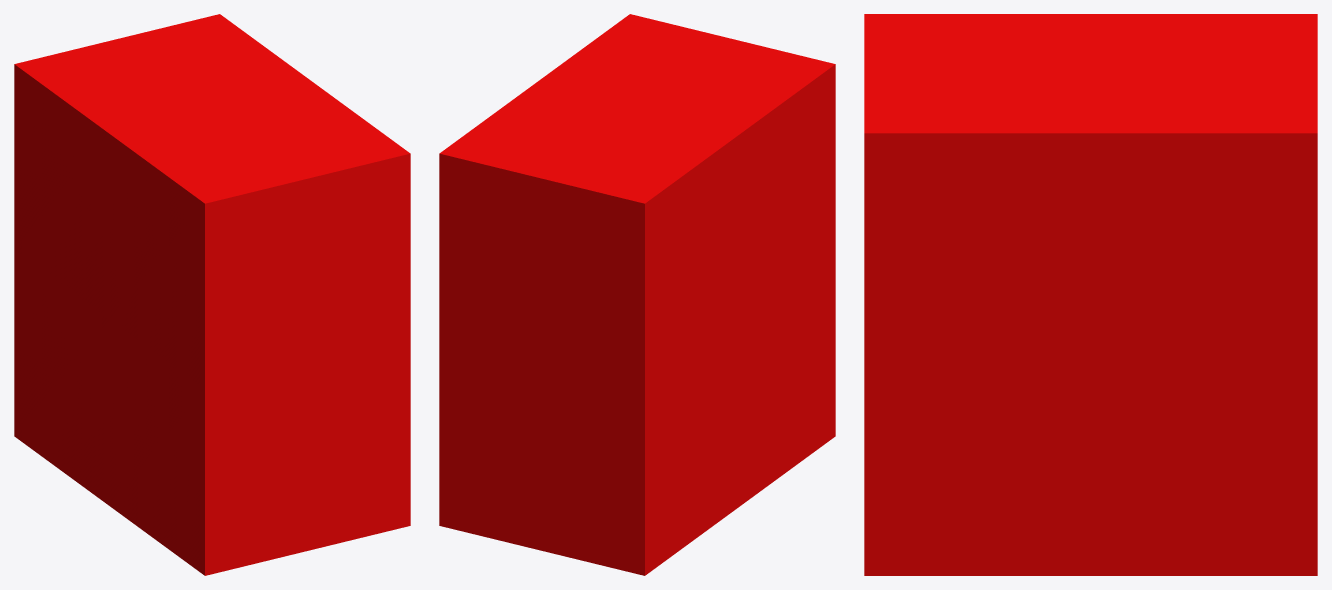
The model's file is hat_ribs_scap_col.dae.
3 renders of one model, left to right at view 1: azimuth 30°, elevation 25°; view 2: azimuth 150°, elevation 25°; view 3: azimuth 270°, elevation 25°, orthographic. The views are drawn at different scales.
Parts seen in each view (by area): view 1: node0; view 2: node0; view 3: node0.
Boxes of the visible parts, x1,y1,x2,y2 form: node0: [14, 14, 410, 575]; node0: [439, 14, 835, 575]; node0: [864, 14, 1317, 575].
Size of the model in its own units: 0.1928 by 0.3336 by 0.3097.
